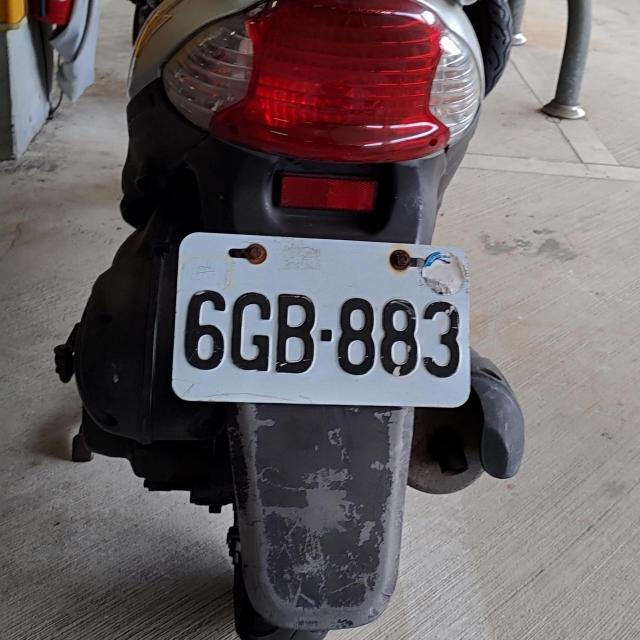W: (163, 233, 469, 404)
